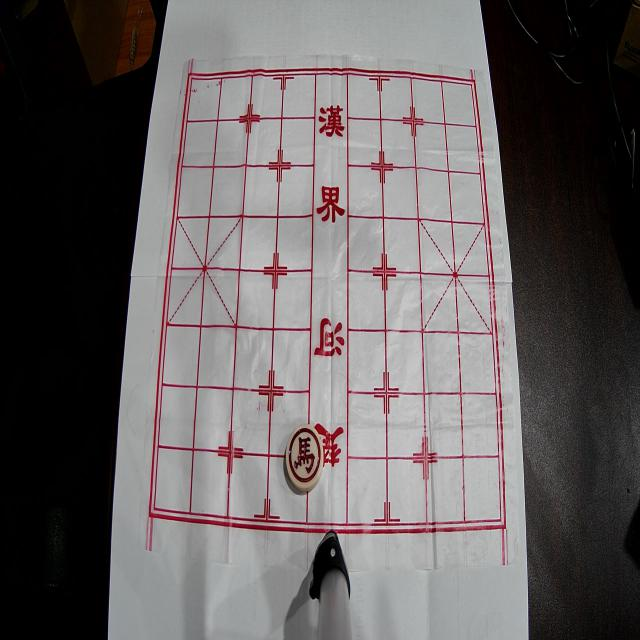red-horse: (286, 424, 324, 492)
